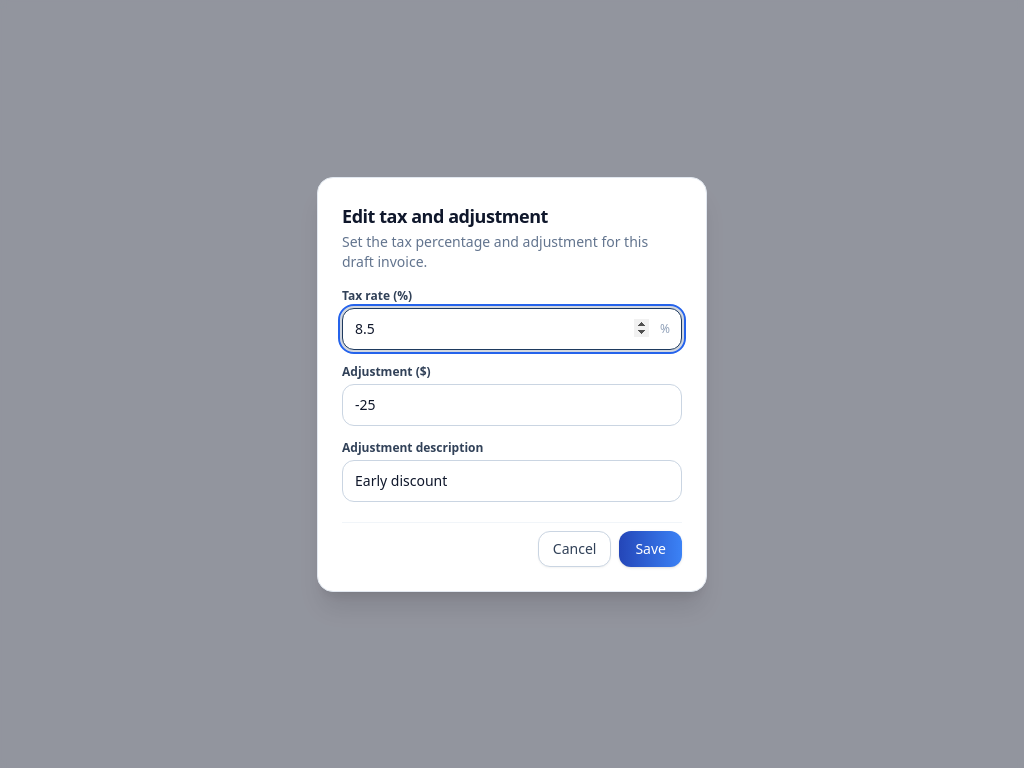
Test: EditTaxModal › validates tax rate bounds (0 - 100) and displays error
Replace the text in the number field labelled "Tax rate (%)" with "150" at {"x": 512, "y": 328}, box left=342, top=308, right=682, bottom=350
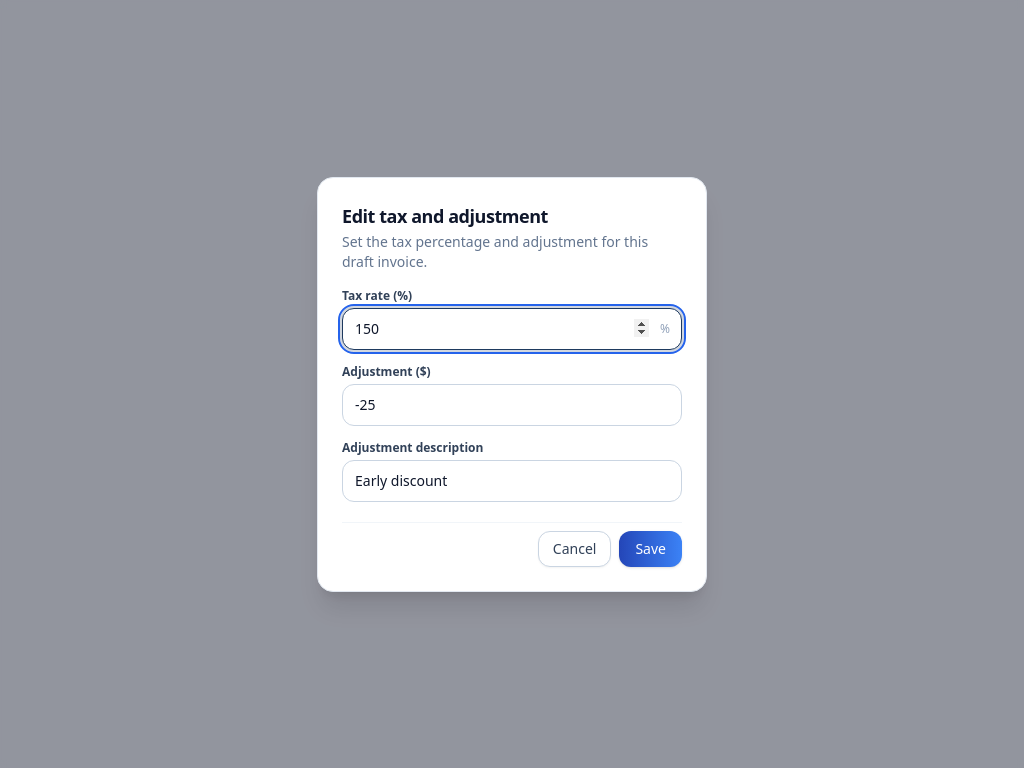
Click the button "Save" at {"x": 651, "y": 548}, box left=619, top=530, right=682, bottom=566
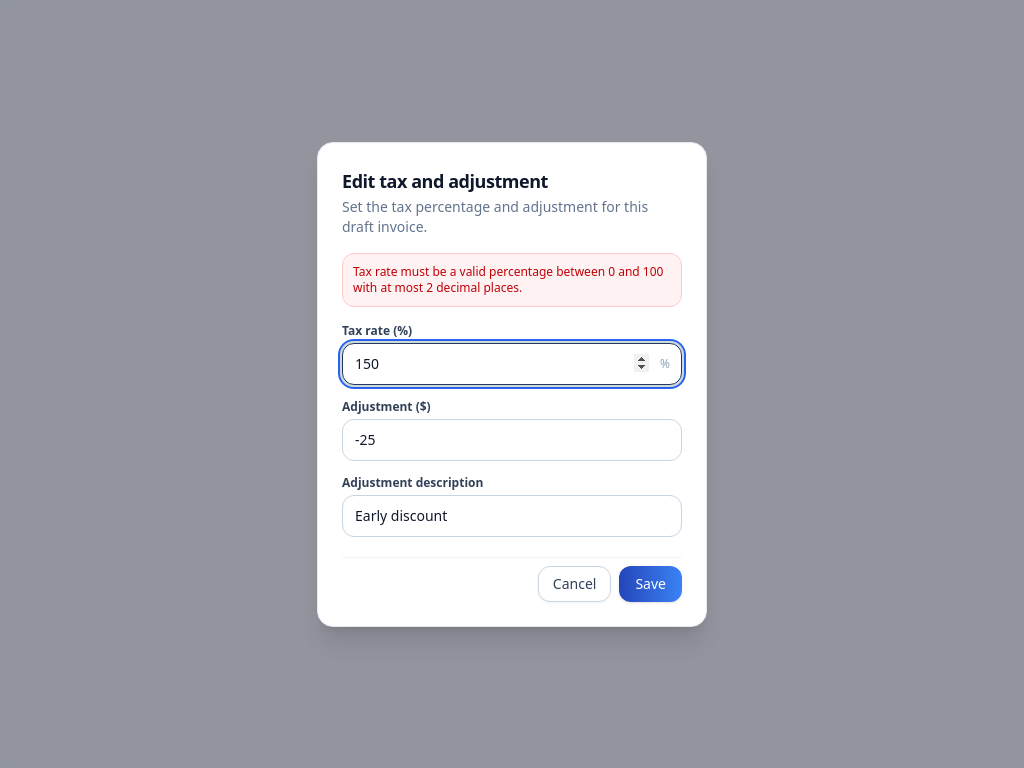
Check: the message shows "Tax rate must be a valid percentage between 0 and 100 with at most 2 decimal places.", box left=353, top=262, right=663, bottom=296
